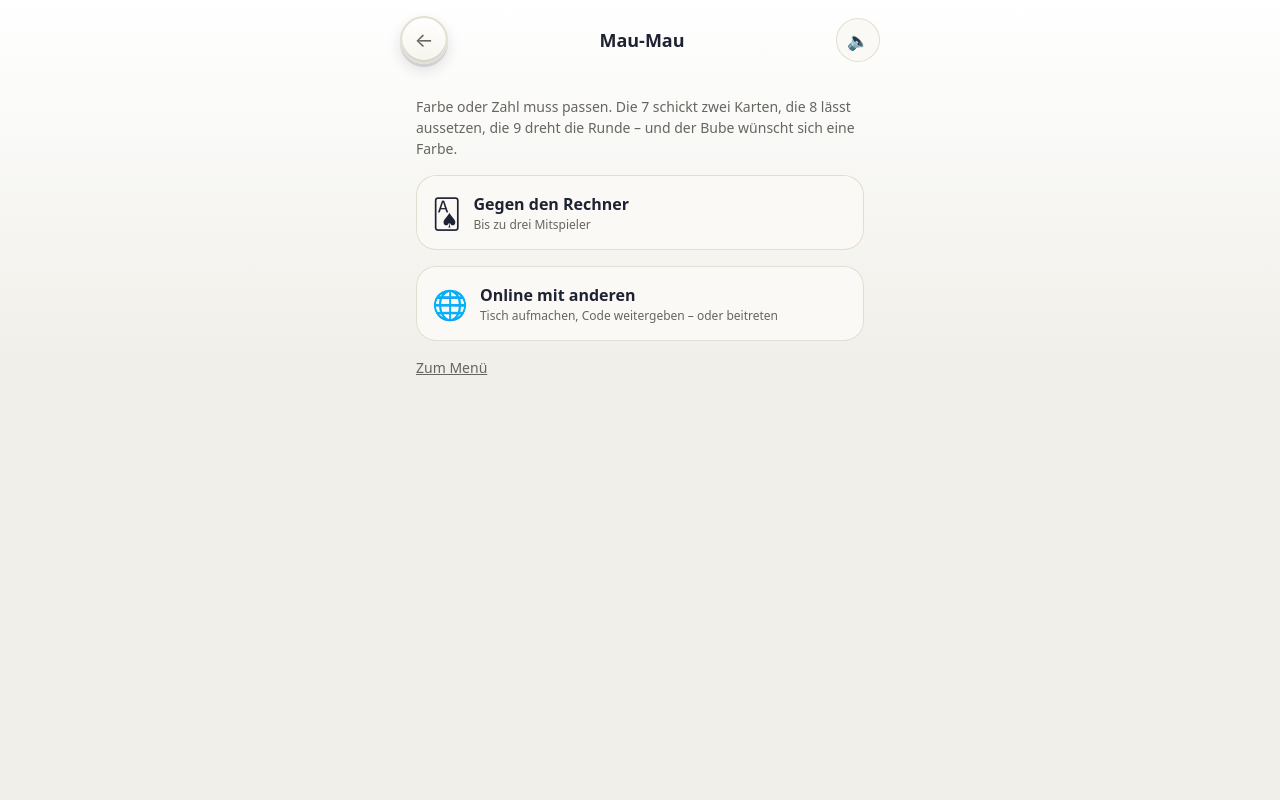
it: Hausregeln im Aufbau › zeigt beim französischen Blatt nur, was es dort gibt
This screenshot has width=1280, height=800.
Click the button "🂡 Gegen den Rechner Bis zu drei Mitspieler".
click(551, 204)  # box [416,175,864,250]
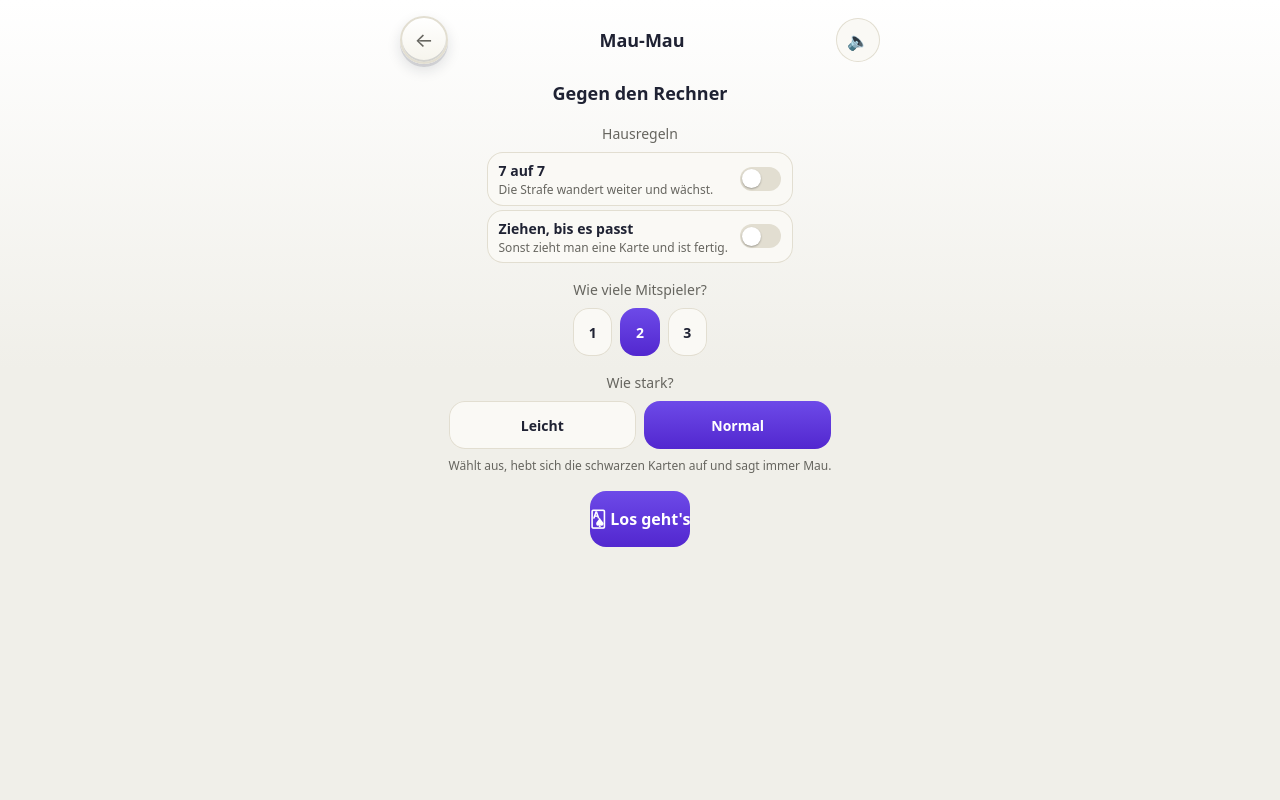
Expected: the button "7 auf 7" is shown, [486,152,793,206]
